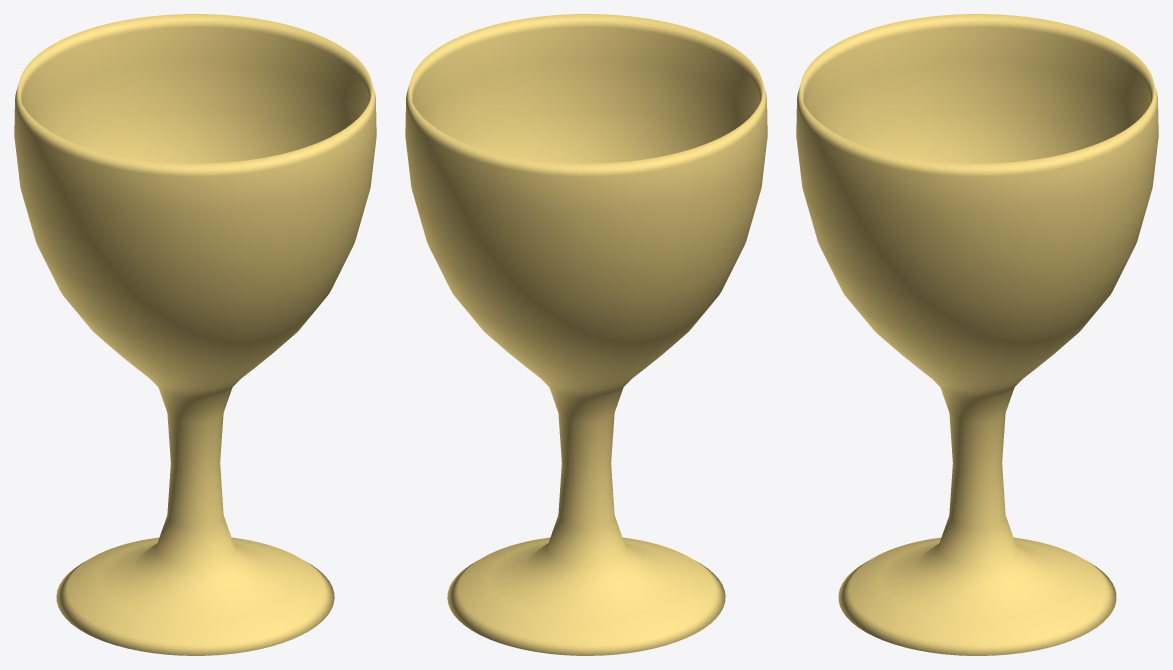
Rendered from goblet.glb.
3 views of the same model, side by side, from view 1: azimuth 30°, elevation 25°; view 2: azimuth 150°, elevation 25°; view 3: azimuth 270°, elevation 25° (orthographic).
Parts seen in each view (by area): view 1: Goblet; view 2: Goblet; view 3: Goblet.
Part boxes in pixels (box(x1,y1,x2,y2)): Goblet: box(14, 14, 376, 655); Goblet: box(405, 14, 767, 655); Goblet: box(796, 14, 1158, 655).
Size of the model in its own units: 1.39 by 2.18 by 1.39.
